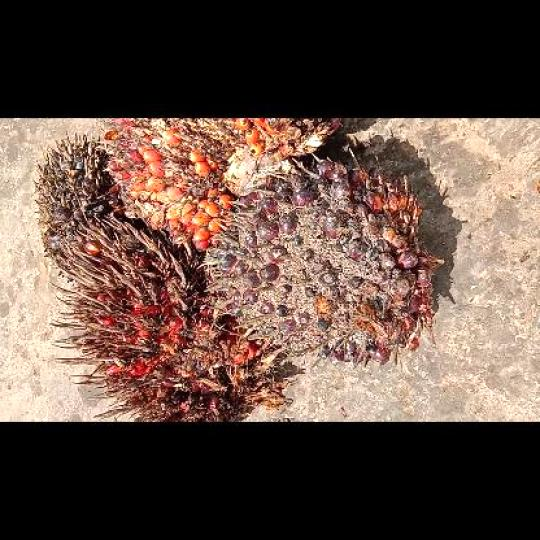kurang masak: (200, 152, 439, 366)
masak: (98, 118, 333, 248)
terlalu masak: (58, 219, 285, 420)
